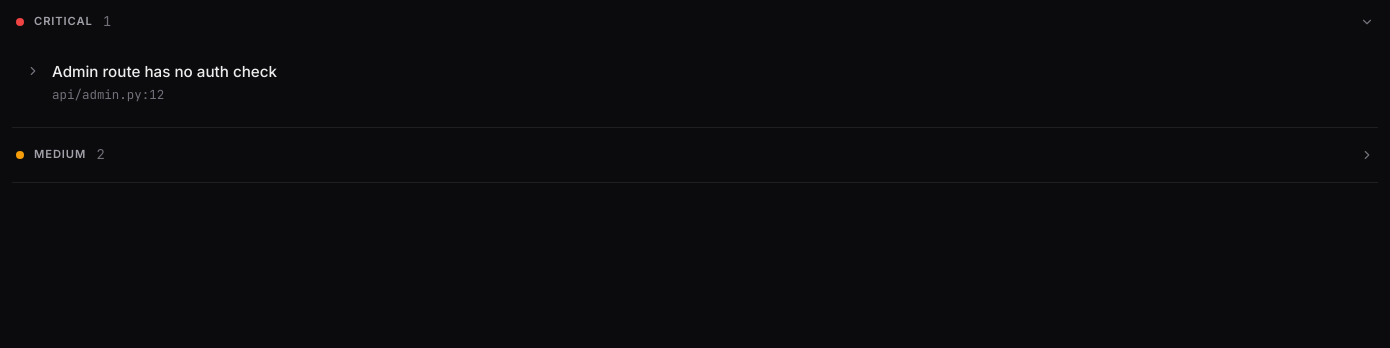
Test: VulnerabilityList › shows every finding — nothing is locked behind a paywall
Click the text "Medium" at [60, 155], box [34, 146, 86, 164]
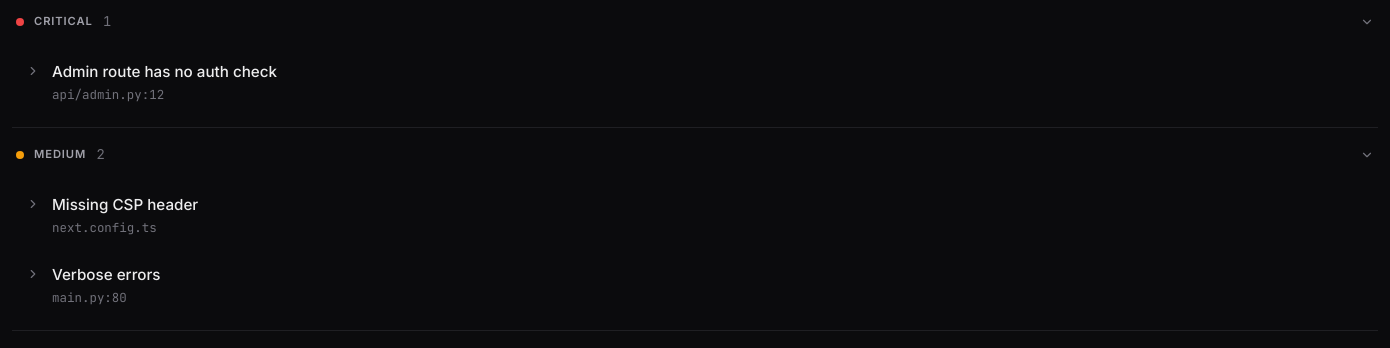
expect the text "Missing CSP header" is shown: met, box [52, 195, 198, 214]
expect the text "Verbose errors" is shown: met, box [52, 265, 160, 284]
